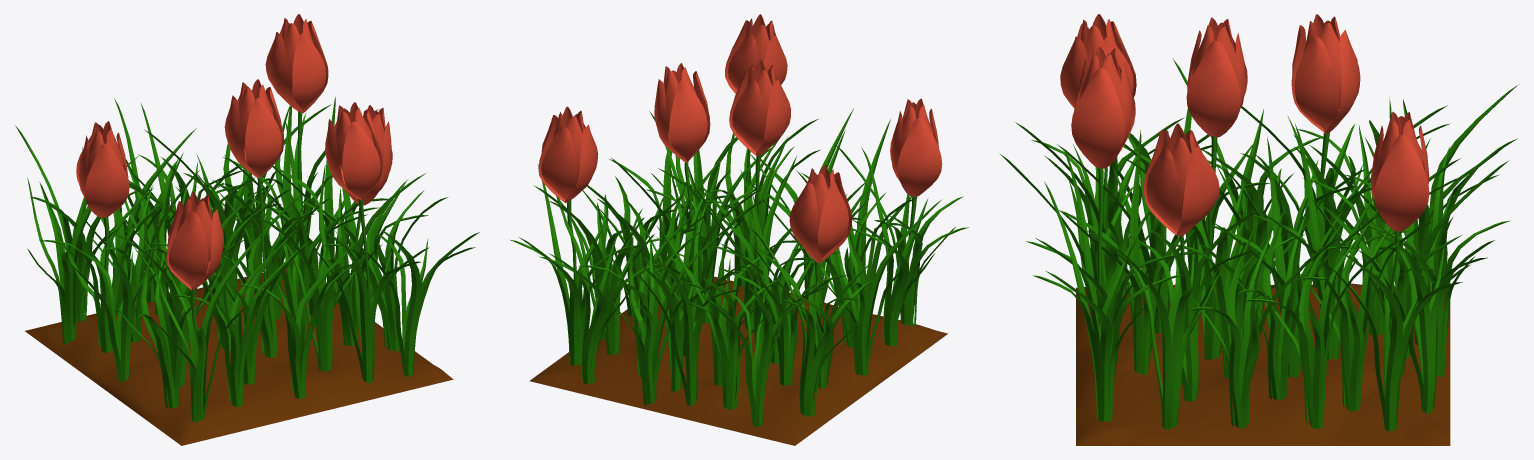
The model's file is red-tulip-p3-bloom.glb.
3 views of the same model, side by side, from view 1: azimuth 30°, elevation 25°; view 2: azimuth 150°, elevation 25°; view 3: azimuth 270°, elevation 25° (orthographic). The views are drawn at different scales.
Parts seen in each view (by area): view 1: 3_nft_bloom; view 2: 3_nft_bloom; view 3: 3_nft_bloom.
Part boxes in pixels (x1=…): 3_nft_bloom: x1=15, y1=14, x2=479, y2=445; 3_nft_bloom: x1=509, y1=14, x2=968, y2=445; 3_nft_bloom: x1=999, y1=14, x2=1518, y2=445.
Bounding box in the file's own units: 0.8884 × 0.7071 × 0.9749.
